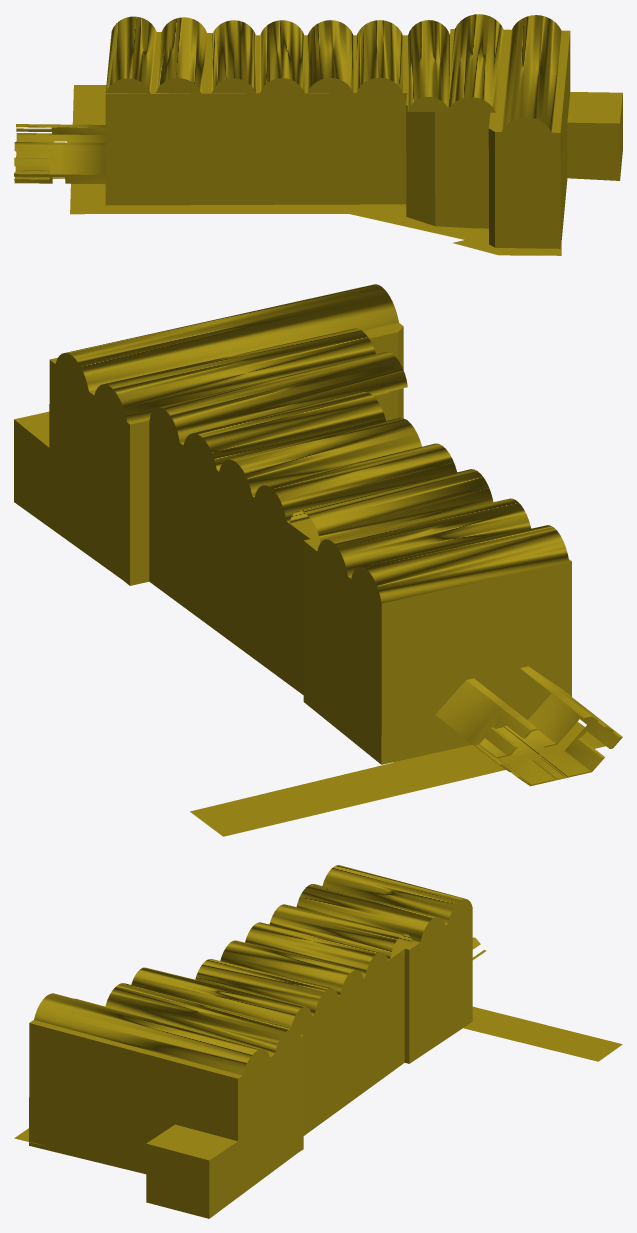
Rendered from Millenium Gallery.fbx.
3 views of the same model, one above another, from view 1: azimuth 30°, elevation 25°; view 2: azimuth 150°, elevation 25°; view 3: azimuth 270°, elevation 25° (orthographic). The views are drawn at different scales.
Visible parts, largest first — view 1: Millenium Gallery; view 2: Millenium Gallery; view 3: Millenium Gallery.
Boxes of the visible parts, x1,y1,x2,y2 form: Millenium Gallery: (14, 14, 622, 255); Millenium Gallery: (14, 284, 622, 836); Millenium Gallery: (14, 865, 622, 1218).
Size of the model in its own units: 8087 by 2031 by 8103.
